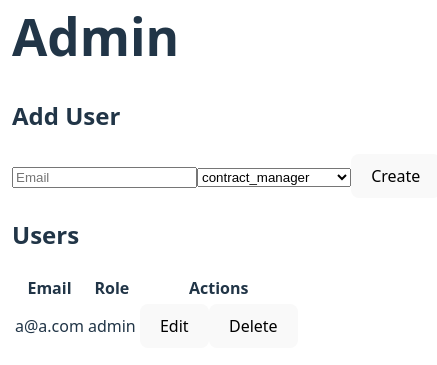
it: AdminPage delete › removes user on successful delete
expect the text "a@a.com" is shown: met, box [14, 303, 85, 348]
Click the button "Delete" at (253, 326), box [209, 304, 298, 348]
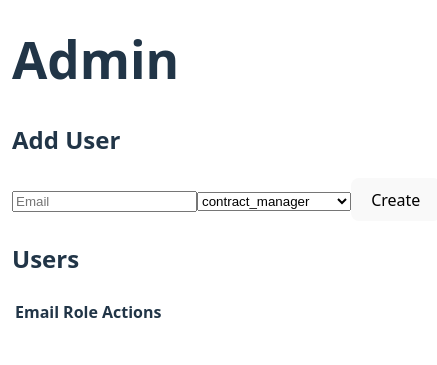
expect the text "a@a.com" is gone: met
